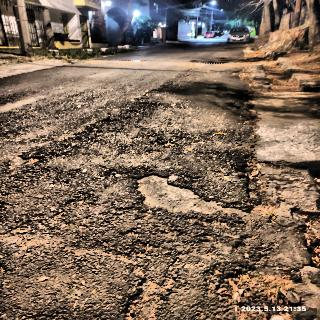pothole: (2, 153, 117, 235), (130, 169, 248, 221), (118, 221, 232, 271), (113, 276, 177, 319)
